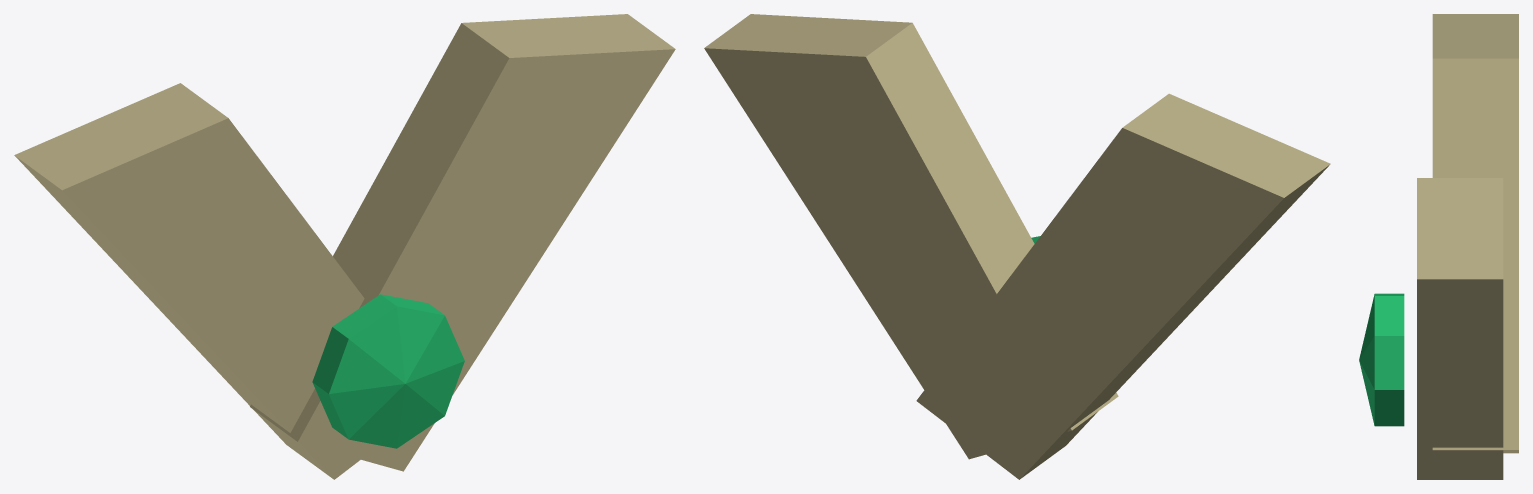
The model's file is crossed_jade.obj.
The picture shows the model from 3 angles, left to right: view 1: azimuth 30°, elevation 25°; view 2: azimuth 150°, elevation 25°; view 3: azimuth 270°, elevation 25°; orthographic projection. The views are drawn at different scales.
Visible parts, largest first — view 1: collar_left, collar_right, collar_right_edge, collar_jade, collar_left_edge; view 2: collar_left, collar_right, collar_right_edge, collar_left_edge; view 3: collar_right_edge, collar_left_edge, collar_jade.
Part boxes in pixels (<box>): collar_left: <box>62,118,364,479</box>; collar_right: <box>298,49,675,471</box>; collar_right_edge: <box>250,14,674,441</box>; collar_jade: <box>312,294,464,448</box>; collar_left_edge: <box>14,83,333,479</box>; collar_left: <box>916,128,1283,479</box>; collar_right: <box>704,48,1071,459</box>; collar_right_edge: <box>704,14,1118,430</box>; collar_left_edge: <box>1019,93,1330,479</box>; collar_right_edge: <box>1417,178,1503,479</box>; collar_left_edge: <box>1432,14,1518,453</box>; collar_jade: <box>1359,293,1404,426</box>.
Bounding box in the file's own units: 0.8 × 0.49 × 0.2037.
